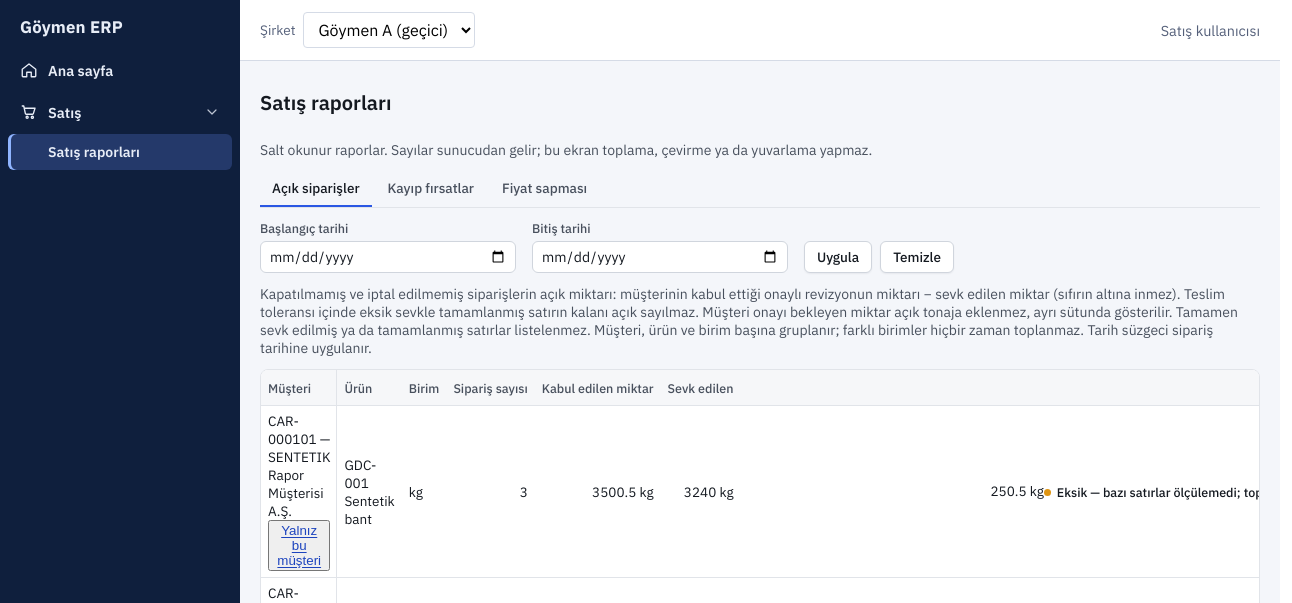
Açık siparişler (API-41, KPI No 124) › refuses a reversed date range on the screen and sends nothing for it
Type "2026-10-31" into the date field labelled "Başlangıç tarihi". click: (388, 257)
box: left=260, top=241, right=516, bottom=273
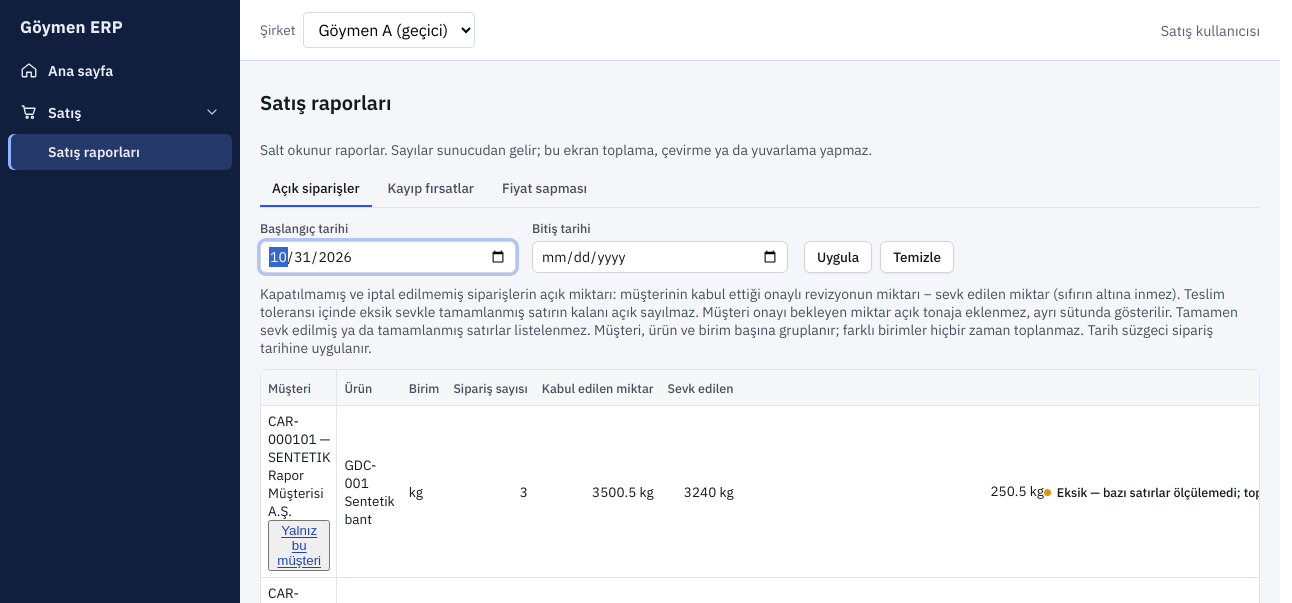
Type "2026-10-01" into the date field labelled "Bitiş tarihi". click: (660, 257)
box: left=532, top=241, right=788, bottom=273
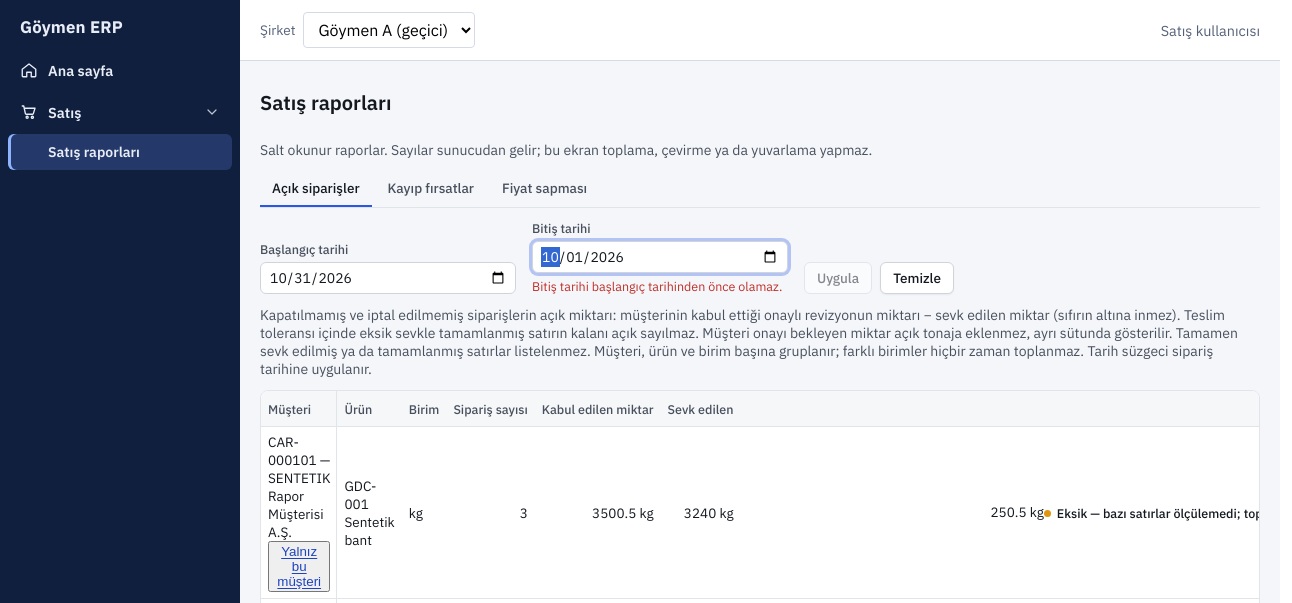
Expected: the text "Bitiş tarihi başlangıç tarihinden önce olamaz." is shown, left=532, top=278, right=788, bottom=294
Expected: the button "Uygula" is disabled, left=804, top=262, right=872, bottom=294
